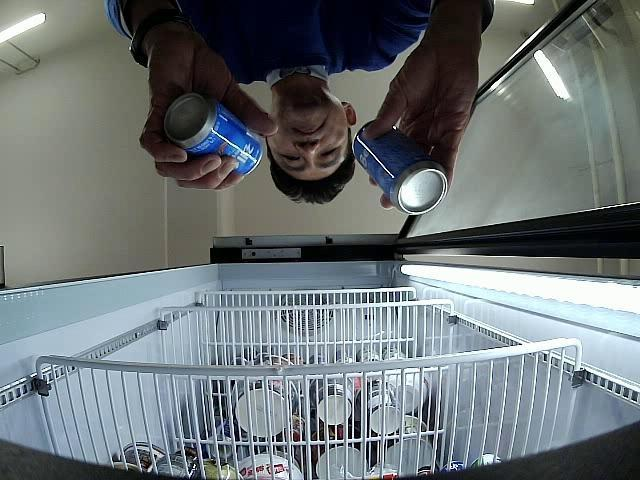15_letsbe: (353, 120, 448, 214), (162, 93, 260, 180)
